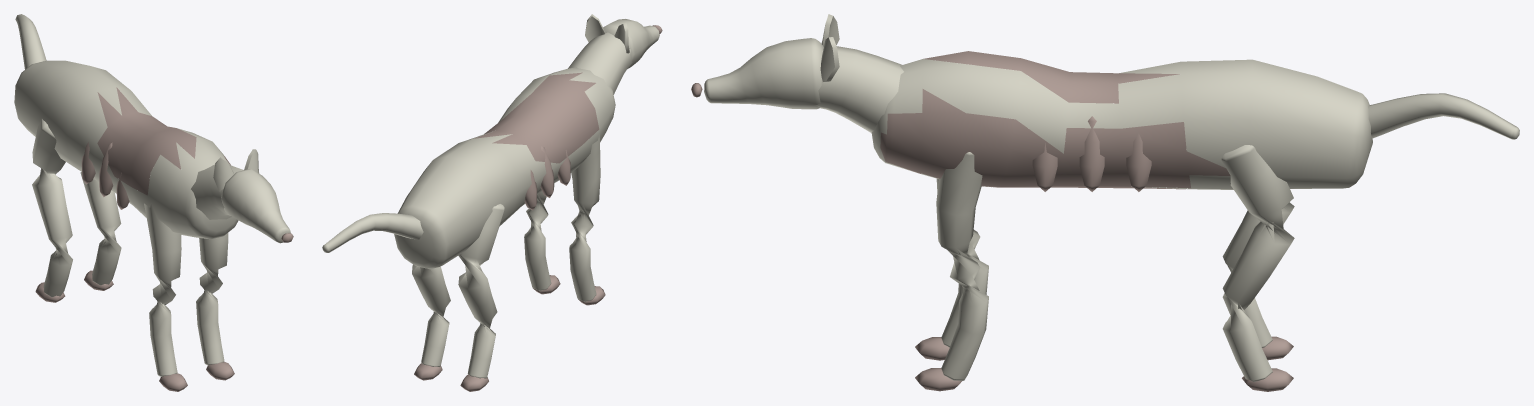
Rendered from undead-horde-and-infected-variants-infected-dog-b16f6d32__12011.glb.
3 views of the same model, side by side, from view 1: azimuth 30°, elevation 25°; view 2: azimuth 150°, elevation 25°; view 3: azimuth 270°, elevation 25° (orthographic). The views are drawn at different scales.
Parts seen in each view (by area): view 1: infected-dog; view 2: infected-dog; view 3: infected-dog.
Part boxes in pixels (bbox=[...]): infected-dog: bbox=[14, 14, 293, 391]; infected-dog: bbox=[322, 14, 662, 391]; infected-dog: bbox=[691, 14, 1519, 391].
Bounding box in the file's own units: 0.227 × 0.6555 × 1.42.
